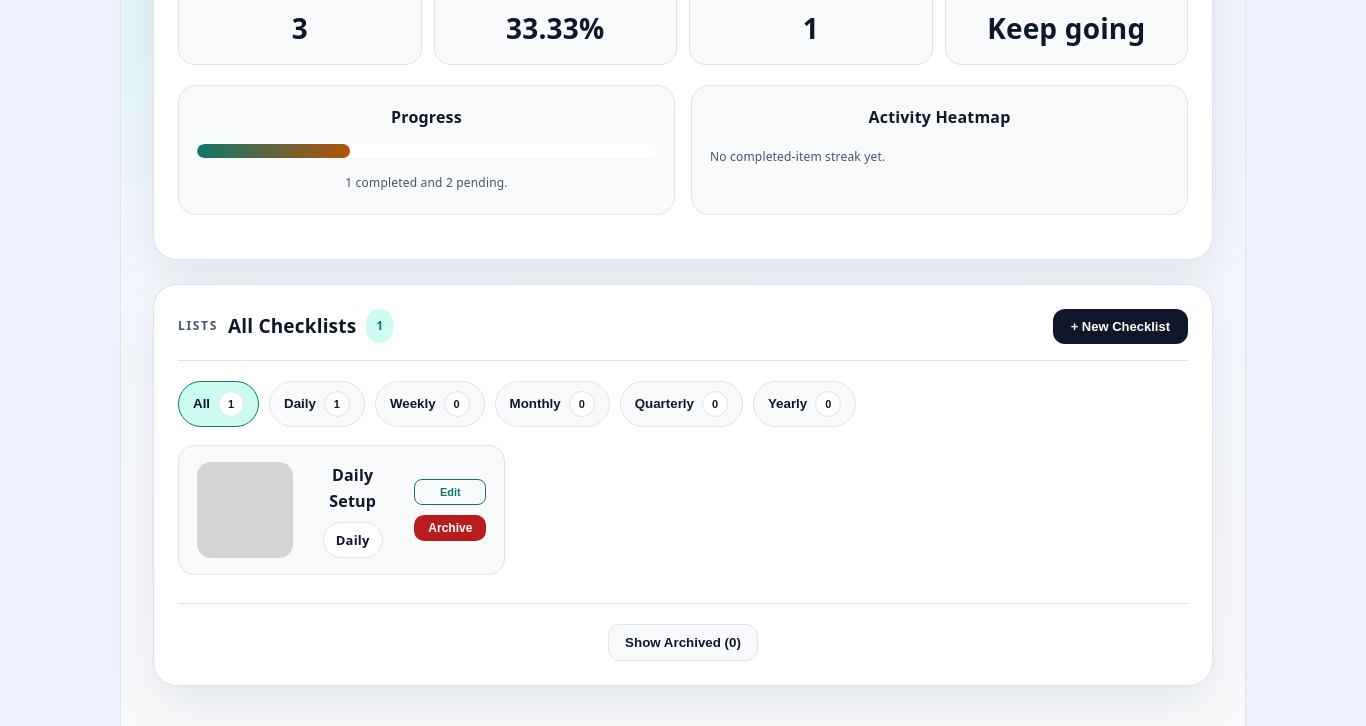
Scenario: Dashboard › shows calendar items for due dates
(page scrolled)
Click the text "Daily Setup".
click(353, 488)  # box [329, 464, 376, 512]
(page scrolled)
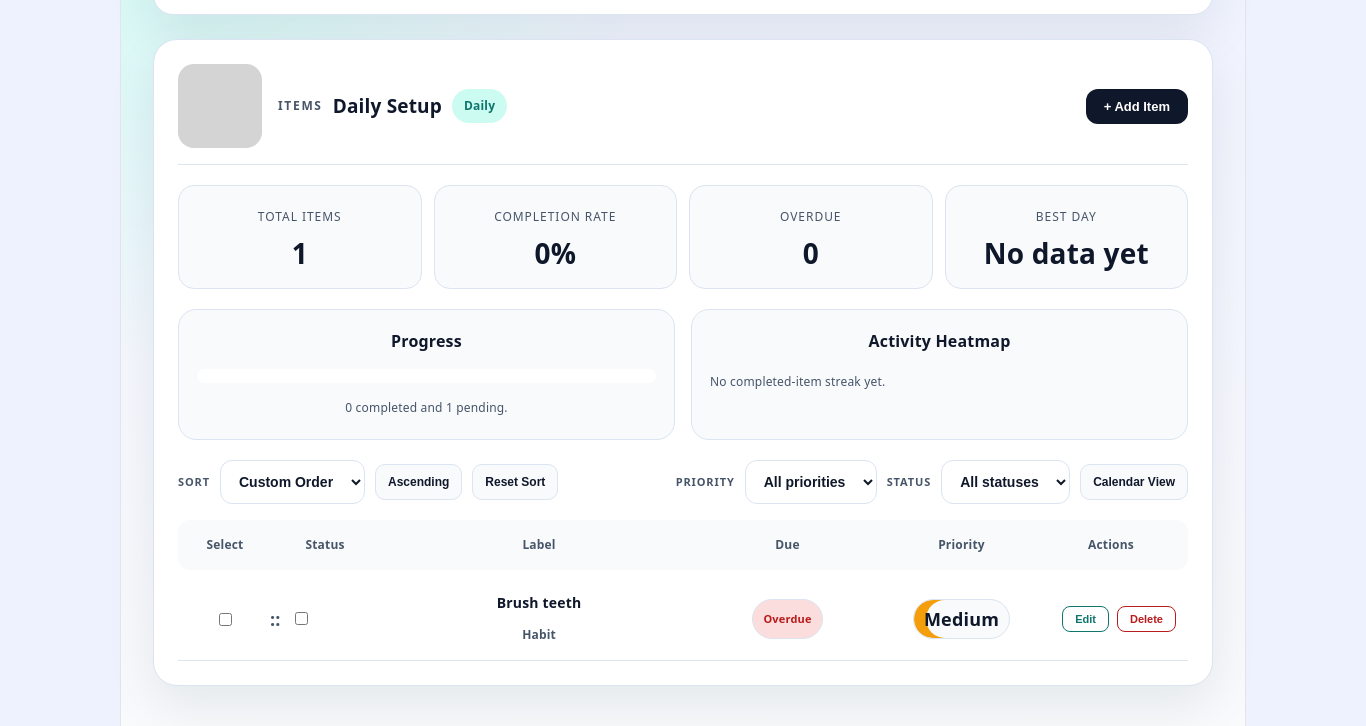
Now the text "Brush teeth" is shown, box [497, 593, 581, 612]
Click the button "Calendar View".
click(1134, 482)  # box [1080, 464, 1188, 500]
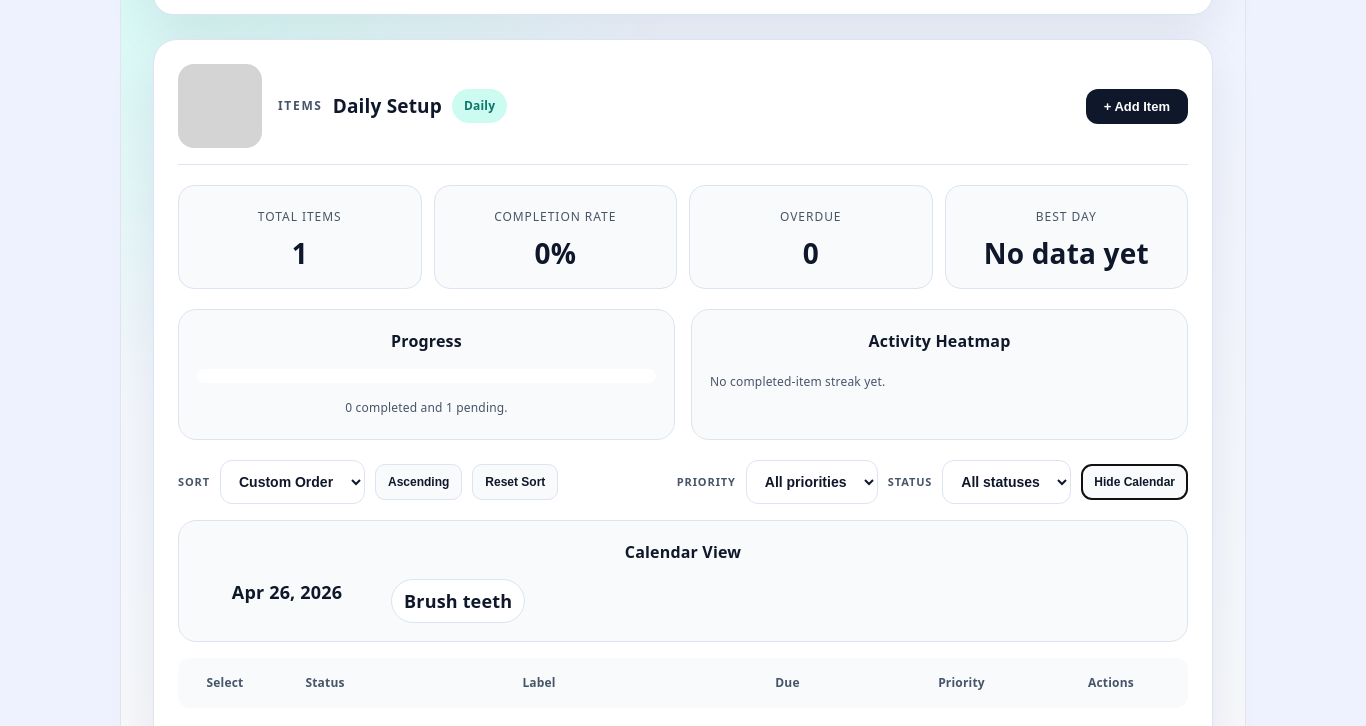
Now the heading "Calendar View" is shown, box [625, 541, 741, 563]
Now the text "Apr 26, 2026" is shown, box [232, 580, 342, 604]
